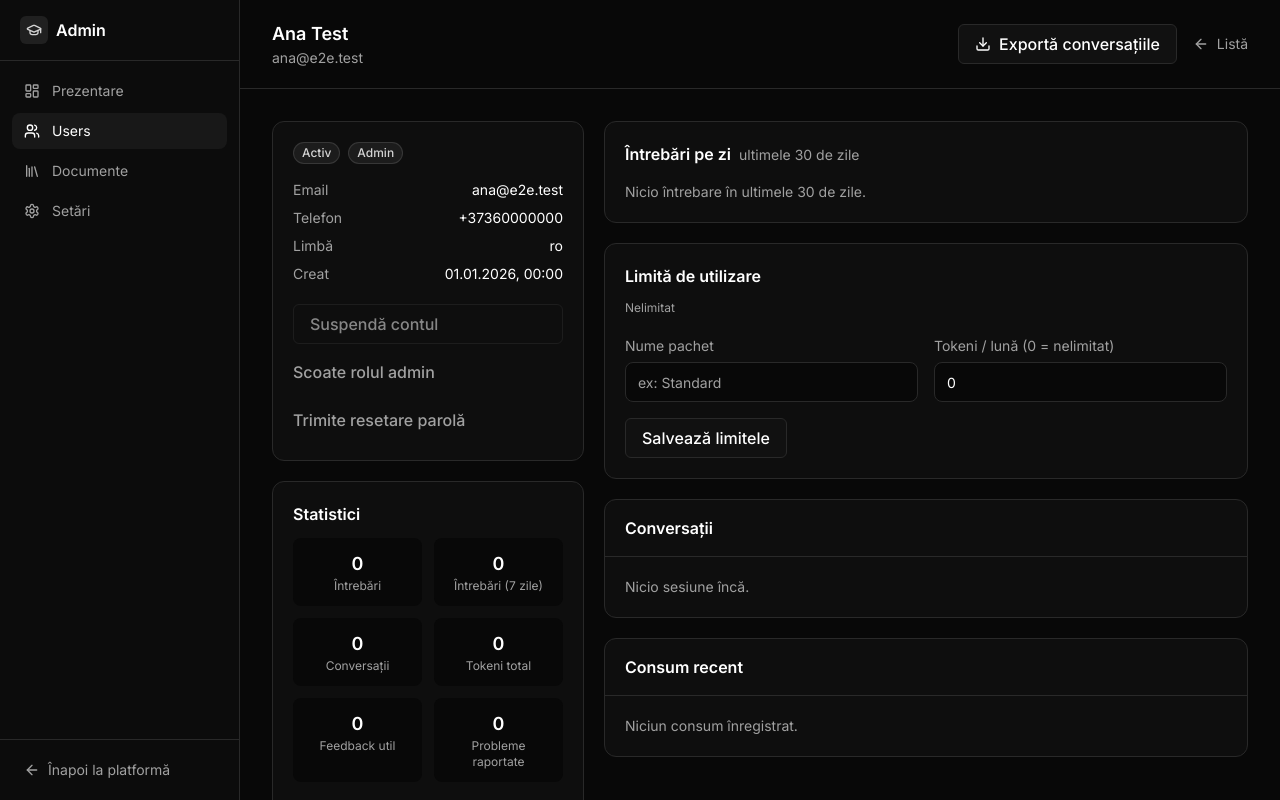
Scenario: ADMIN-05 User detail › ADMIN-05 action failed (S6): role refused → “Ultimul administrator activ nu poate fi suspendat sau retrogradat.” next to “Scoate rolul admin”
The image size is (1280, 800).
Click the button "Scoate rolul admin": point(428, 372) [293,352,563,392]
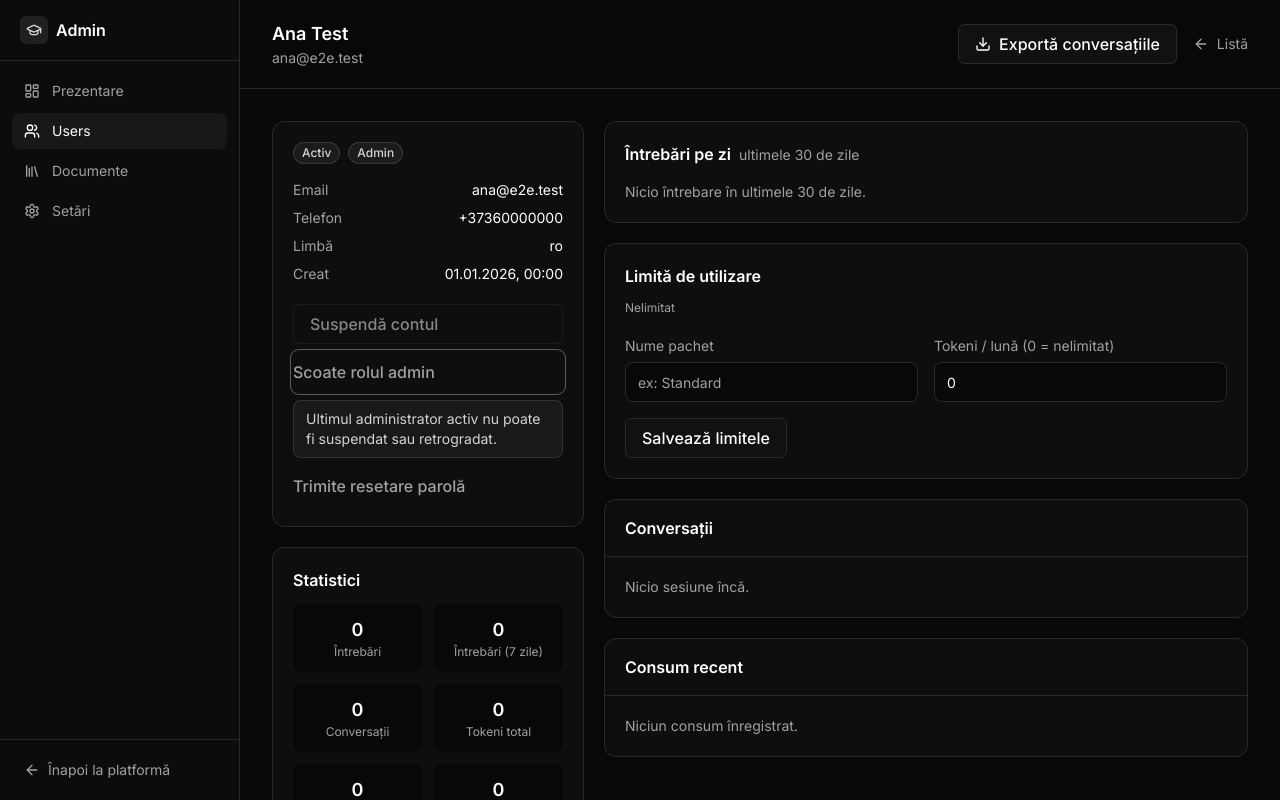
Now the message reads "Ultimul administrator activ nu poate fi suspendat sau retrogradat.", box [306,410,540,447]
